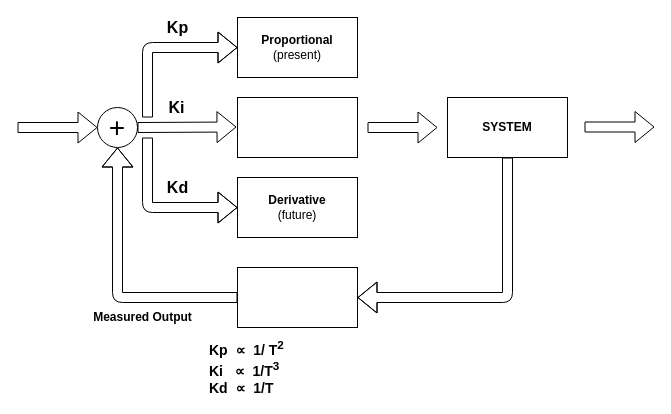
Some shapes in this 671 by 414 pixel diagram are drawn without their labels. Here are the shapes that lost their labels. From the top down, the centre of each, then its label:
the point at 297,127: Integrator (past)
the point at 297,297: SENSOR
